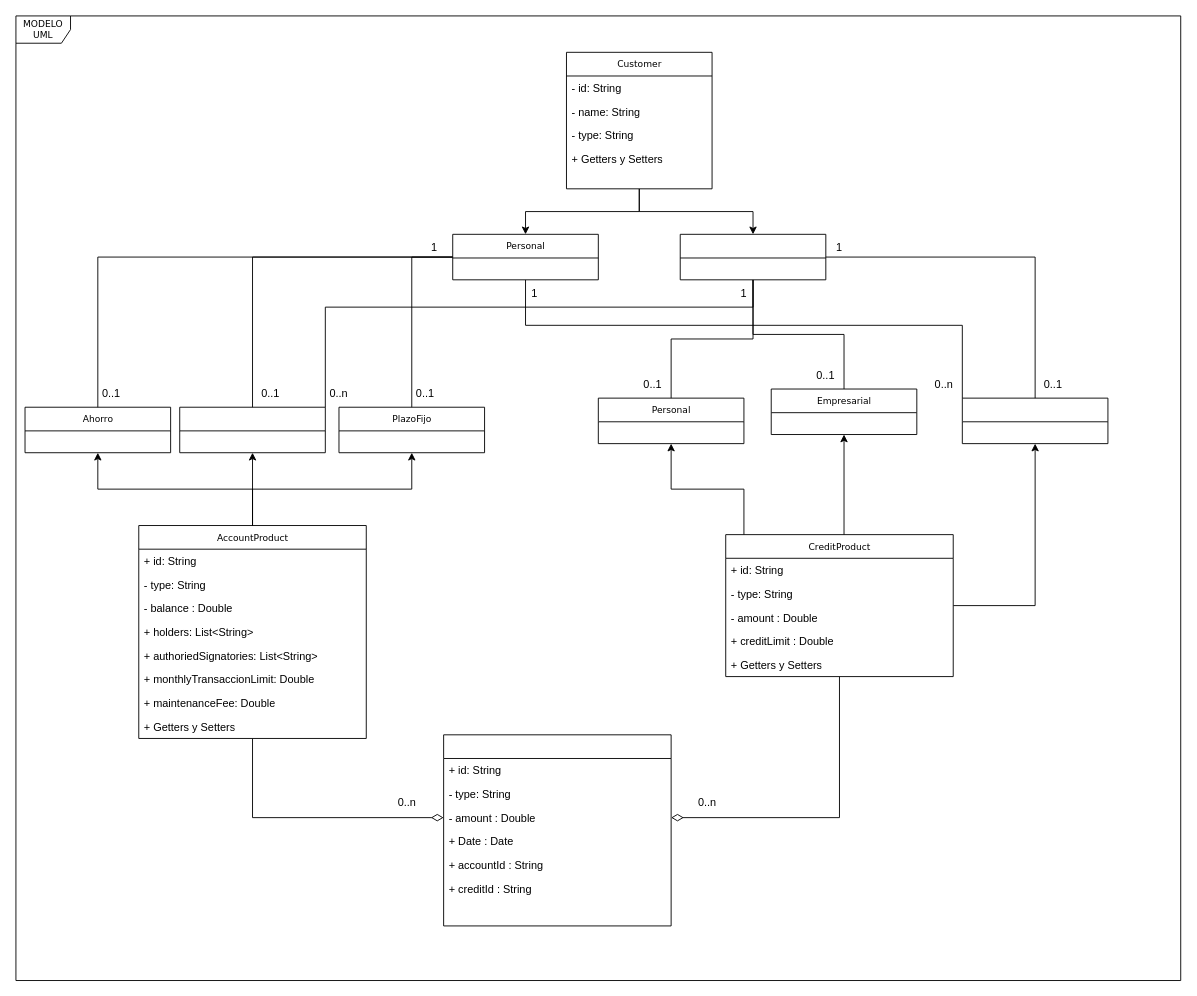
Image size: 1197x996. Some labels were removed from this diagram. The shapes that lost their labels are listed below. From the top down, each one's box as (x1, y1, x2, y2) in pixels, then its label:
(679, 233, 826, 280): Business
(179, 406, 325, 453): Corriente
(961, 397, 1108, 444): Tarjeta de Credito Personal
(443, 734, 671, 926): Transaction
